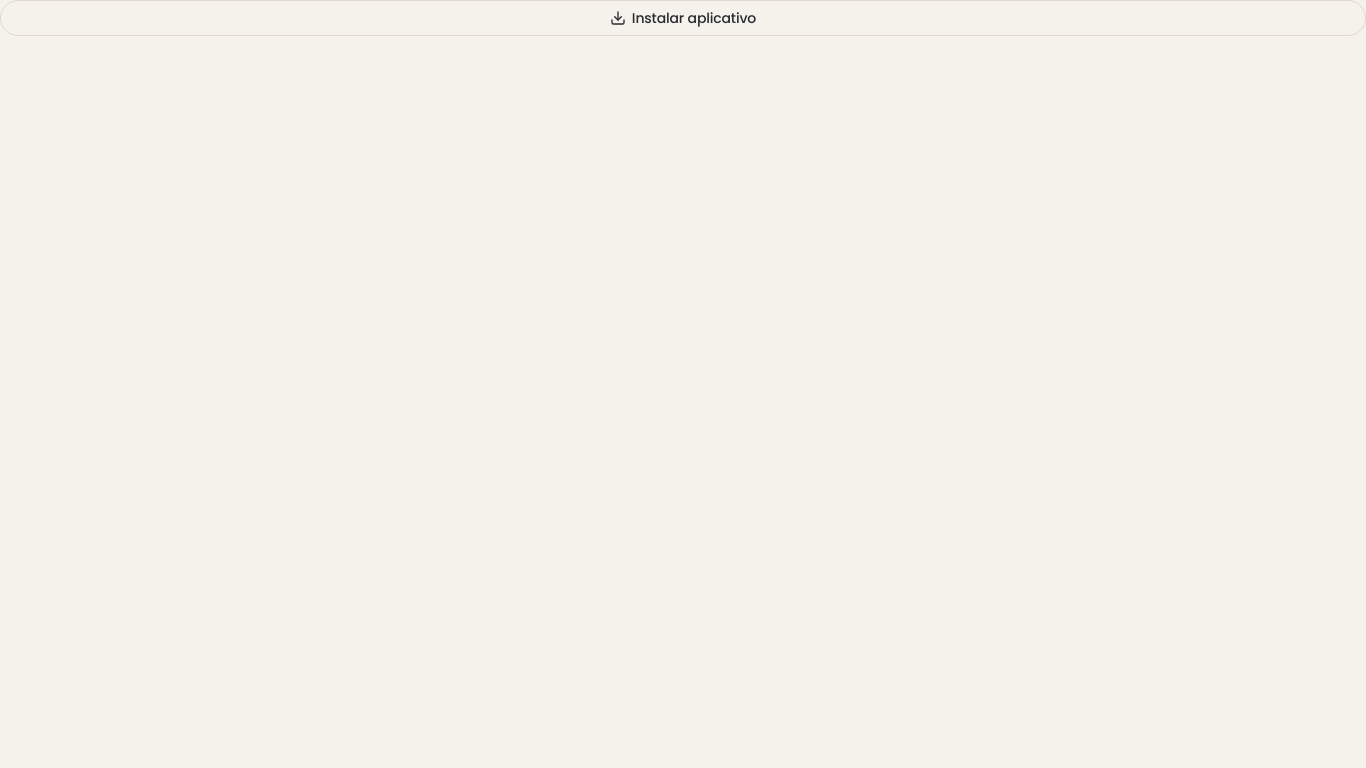
Test: botão de instalar aplicativo › aparece mesmo sem convite automático, com instruções manuais
Click the button with test id "install-app-button". click: (683, 18)
box: x1=0 y1=0 x2=1365 y2=36
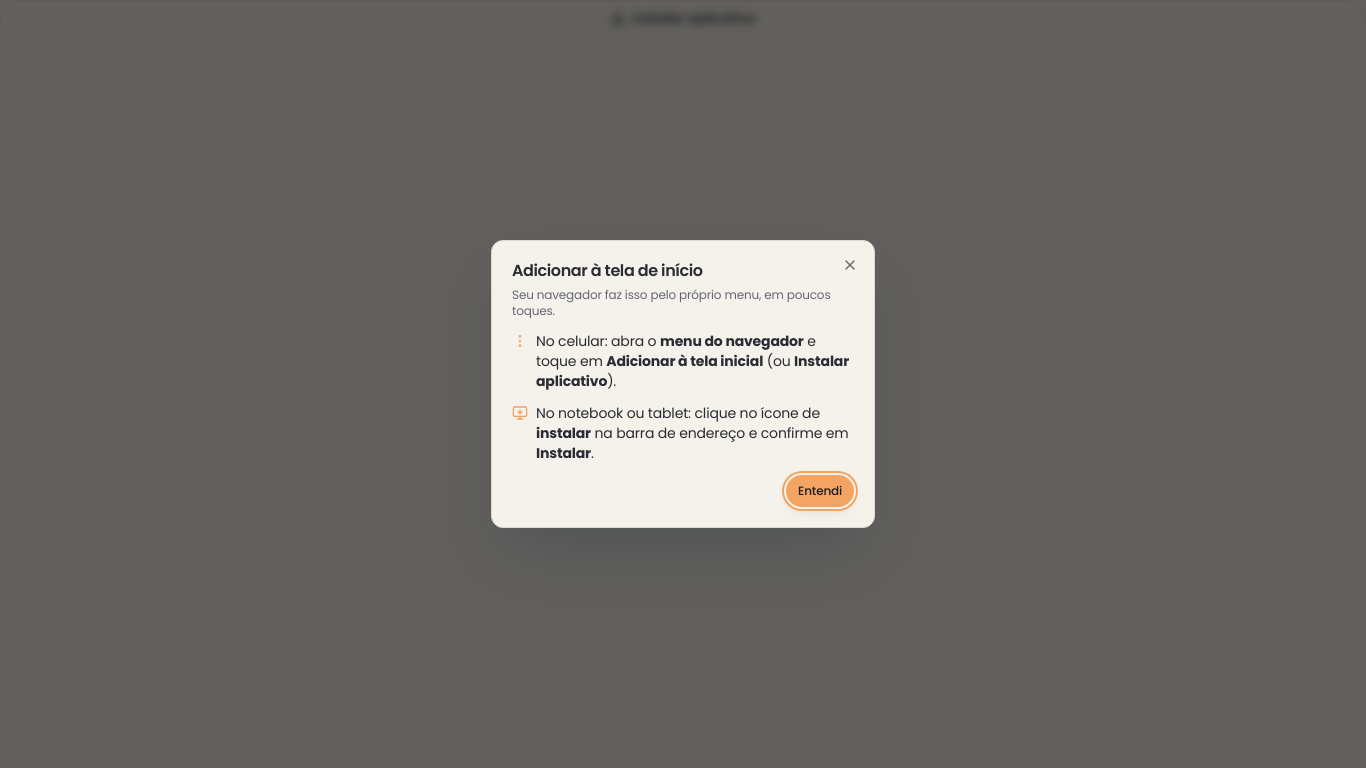
Check: the heading "Adicionar à tela de início" is shown, box x1=512 y1=259 x2=703 y2=282
